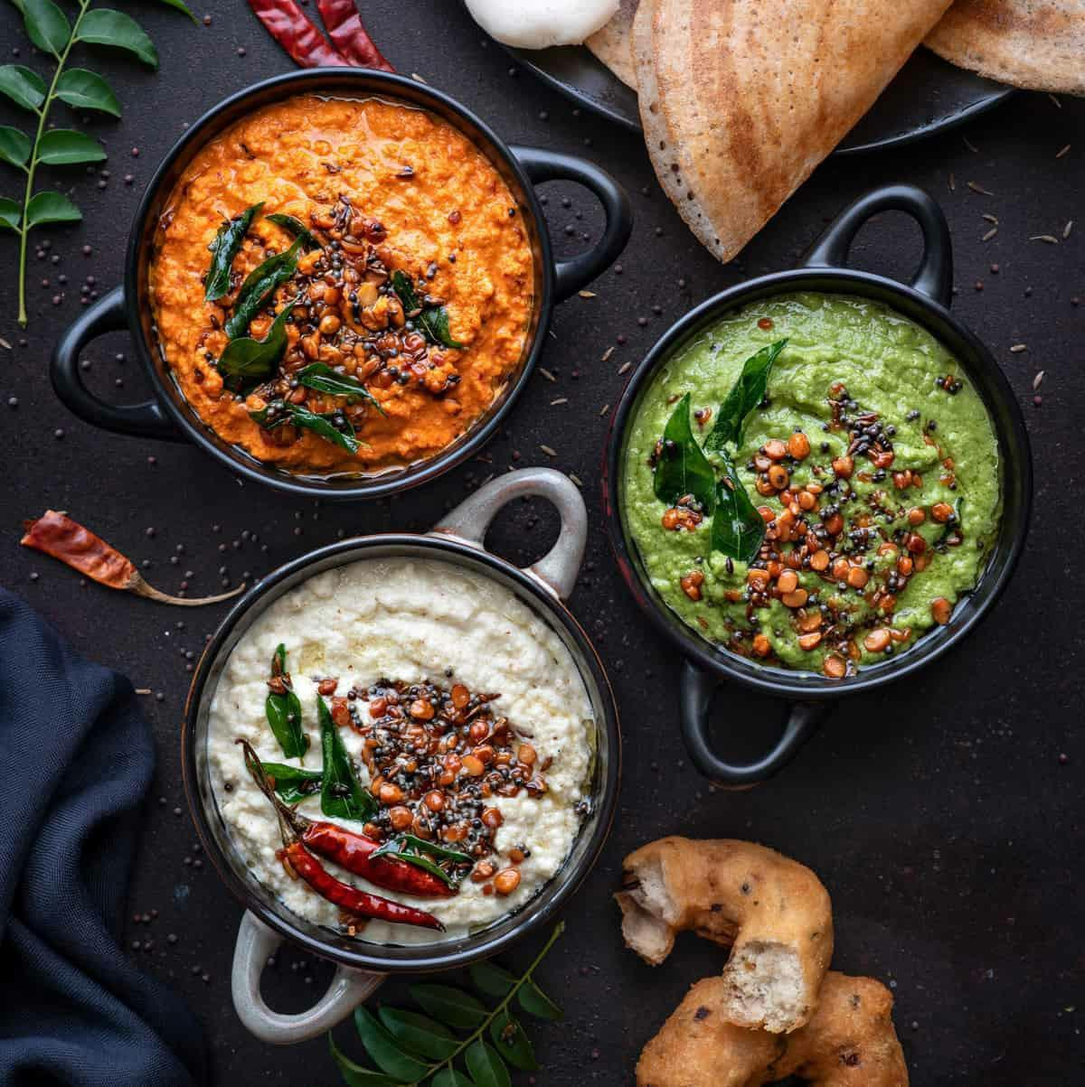CoconutChutney: (198, 562, 599, 955)
